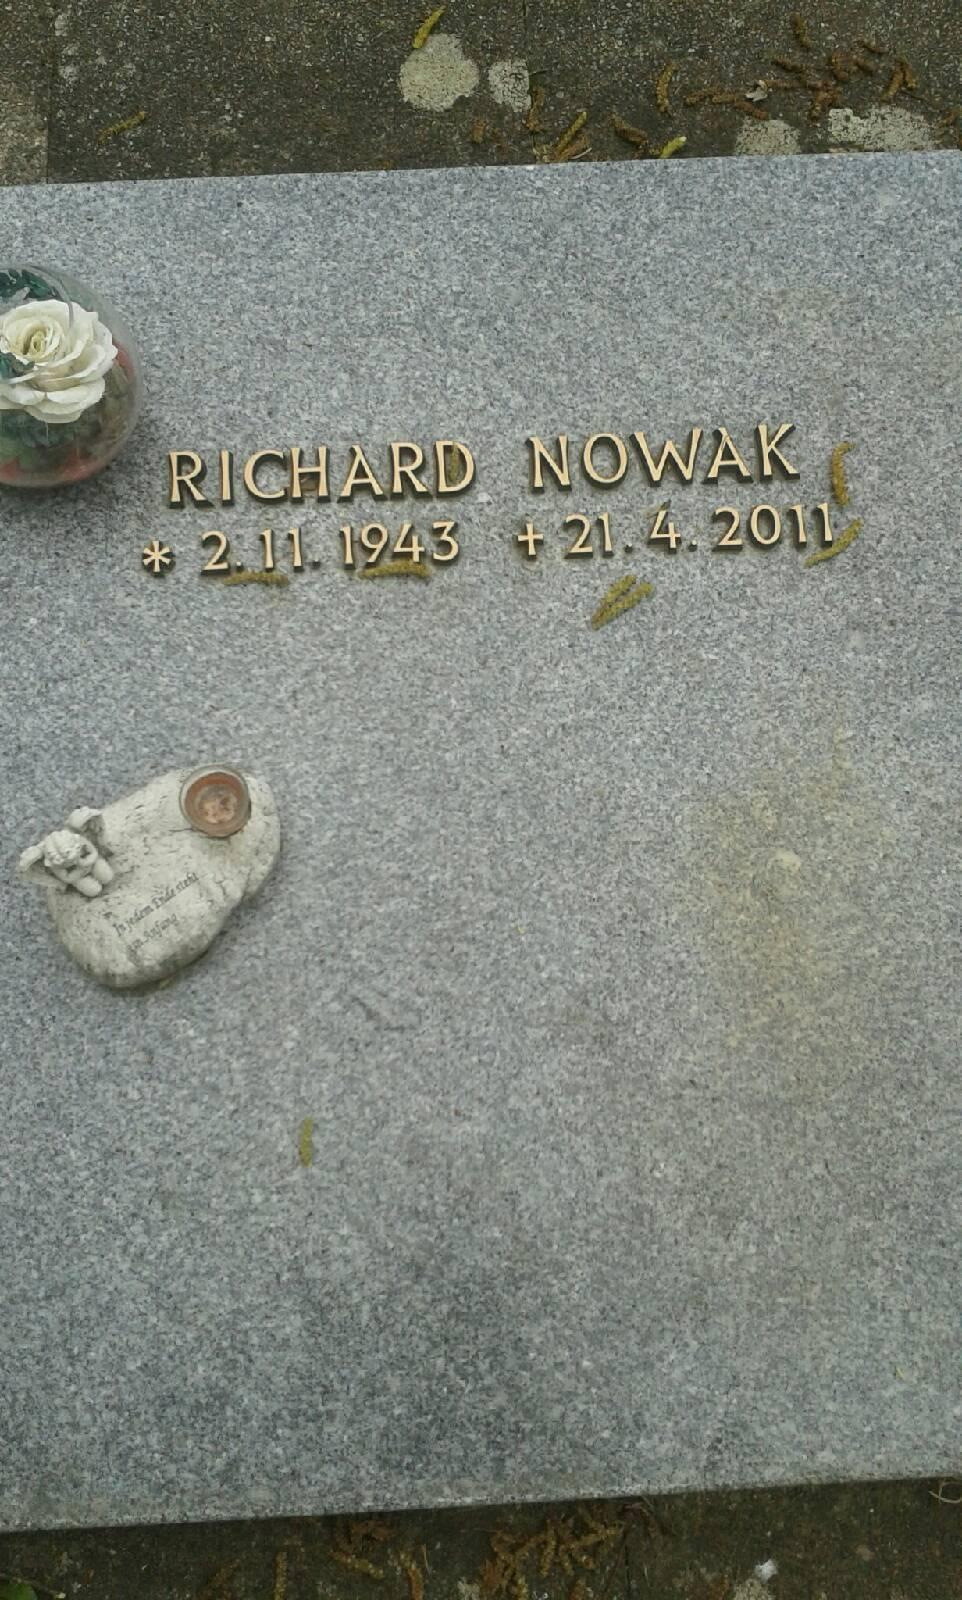flat: (0, 127, 962, 1541)
